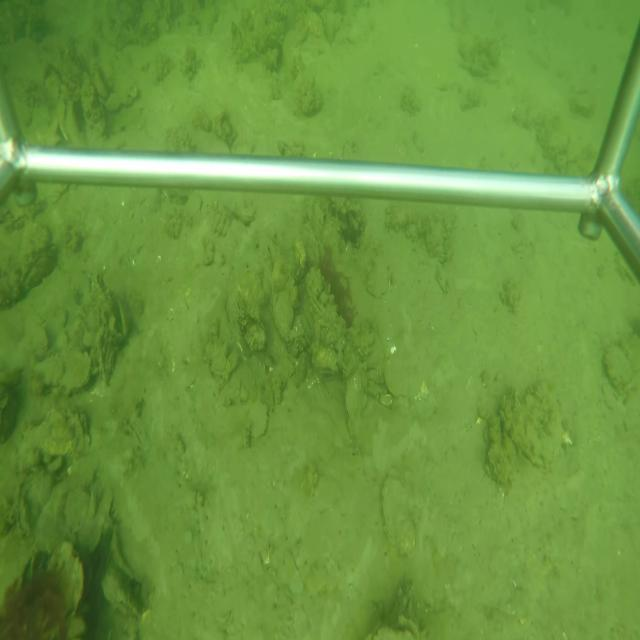Oyster-Closed: (500, 379, 564, 469), (377, 473, 418, 559), (306, 282, 343, 331), (344, 370, 367, 444), (58, 350, 94, 394), (380, 356, 407, 401), (485, 443, 510, 487), (274, 289, 294, 343), (367, 255, 390, 301), (93, 271, 115, 315), (249, 400, 271, 439), (225, 206, 256, 226), (270, 281, 277, 318), (290, 260, 299, 283)
Oyster-Open: (108, 299, 130, 340)
